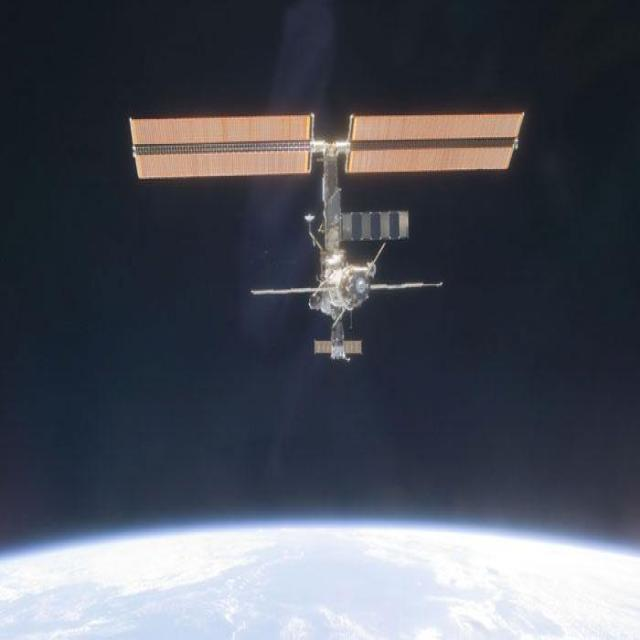medium_debris: (130, 114, 524, 360)
